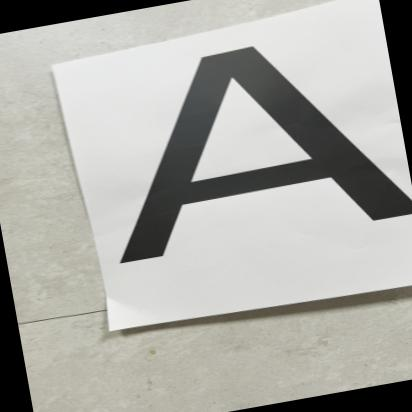seat: (68, 14, 412, 284)
